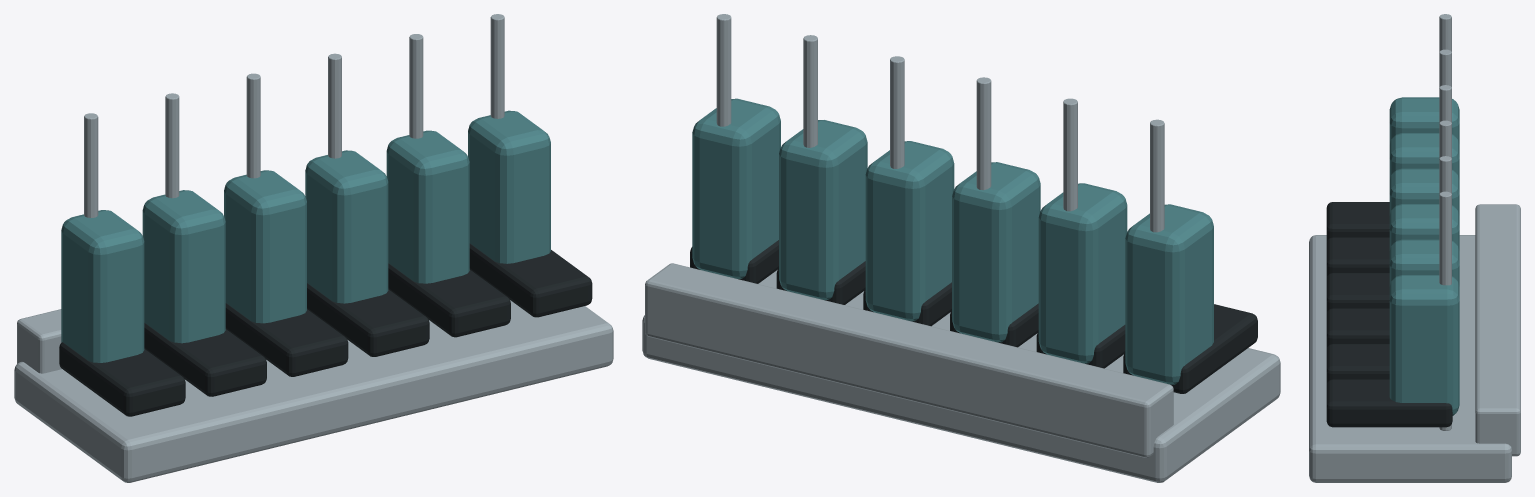
The model's file is RD_BootDryingRack.fbx.
3 renders of one model, left to right at view 1: azimuth 30°, elevation 25°; view 2: azimuth 150°, elevation 25°; view 3: azimuth 270°, elevation 25°, orthographic. The views are drawn at different scales.
Parts seen in each view (by area): view 1: RD_BootDryingRack; view 2: RD_BootDryingRack; view 3: RD_BootDryingRack.
Part boxes in pixels (x1,y1,x2,y2): RD_BootDryingRack: (14, 14, 613, 482); RD_BootDryingRack: (642, 14, 1280, 482); RD_BootDryingRack: (1309, 14, 1520, 482).
Size of the model in its own units: 145 by 86 by 60.5.
